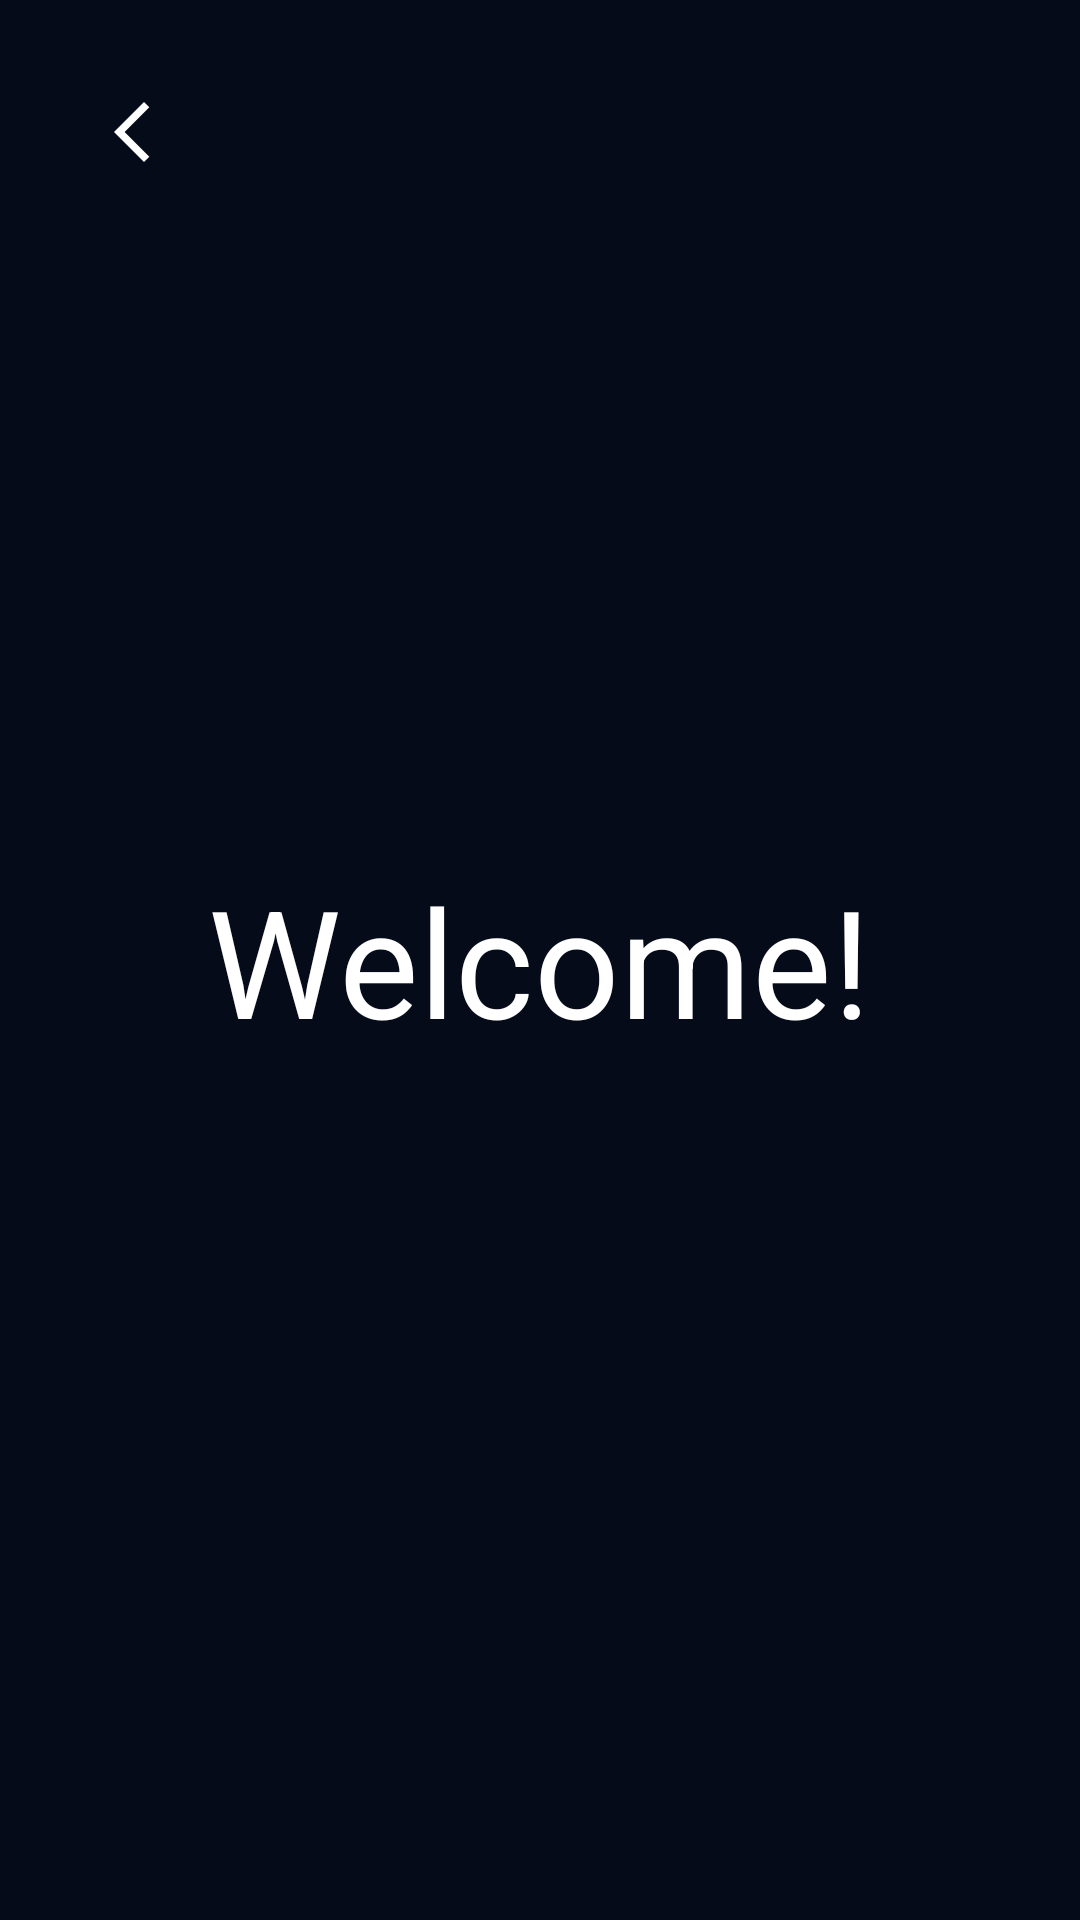

Screen size 1080px×1920px. Icon name, then its box in pixels as region(x1, y1, x2, y2):
back: region(114, 102, 149, 162)
